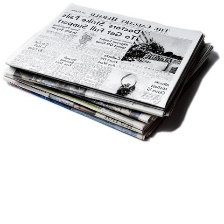news_paper: (4, 0, 218, 143)
